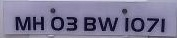character: (97, 16, 117, 31), (14, 15, 31, 32), (50, 15, 64, 31), (130, 16, 144, 32), (146, 16, 159, 32), (32, 15, 44, 31), (83, 16, 95, 31), (65, 15, 76, 31), (123, 16, 128, 32), (160, 17, 165, 33)
